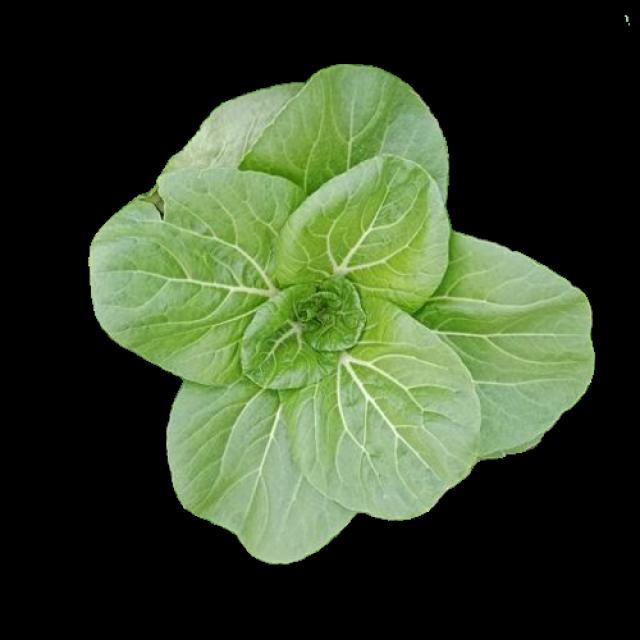mature: (93, 63, 588, 571)
unhealthy: (92, 168, 312, 388)
